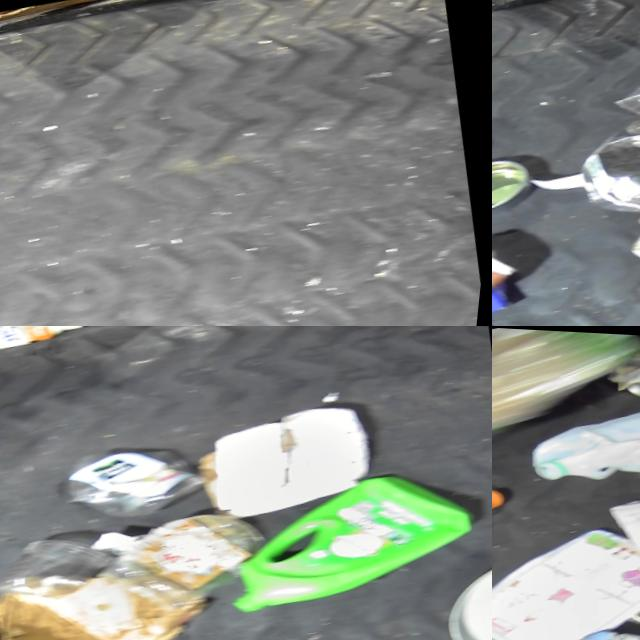can: (492, 141, 554, 222), (616, 329, 640, 402)
milk_jug: (517, 373, 640, 500), (592, 422, 640, 619)
non_white_jug: (214, 442, 492, 620)
